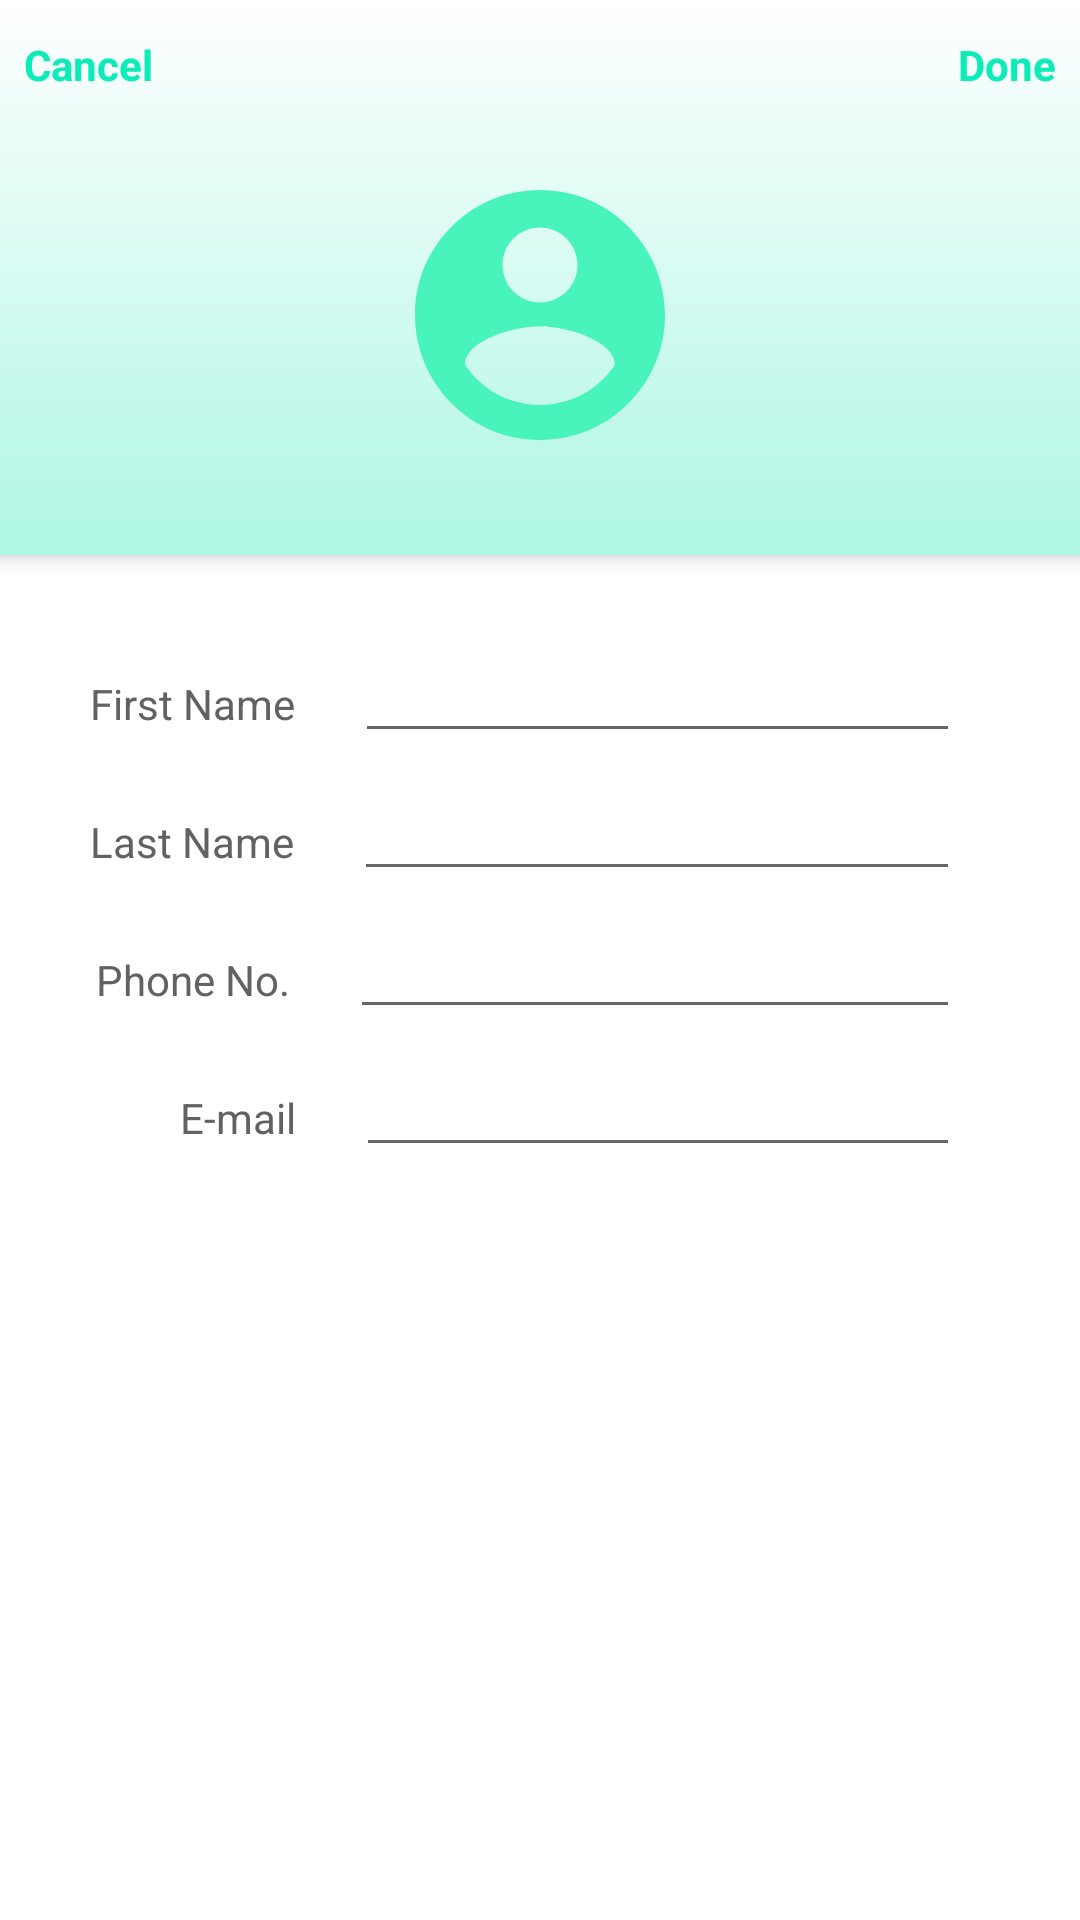

Named icons in this screenshot (1080w x 1920h) and their centers, point (x, y):
user: point (540, 315)
